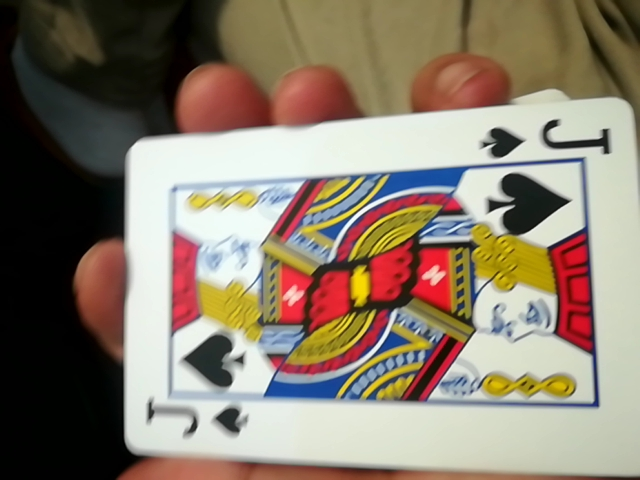ht j: (91, 104, 630, 480)
